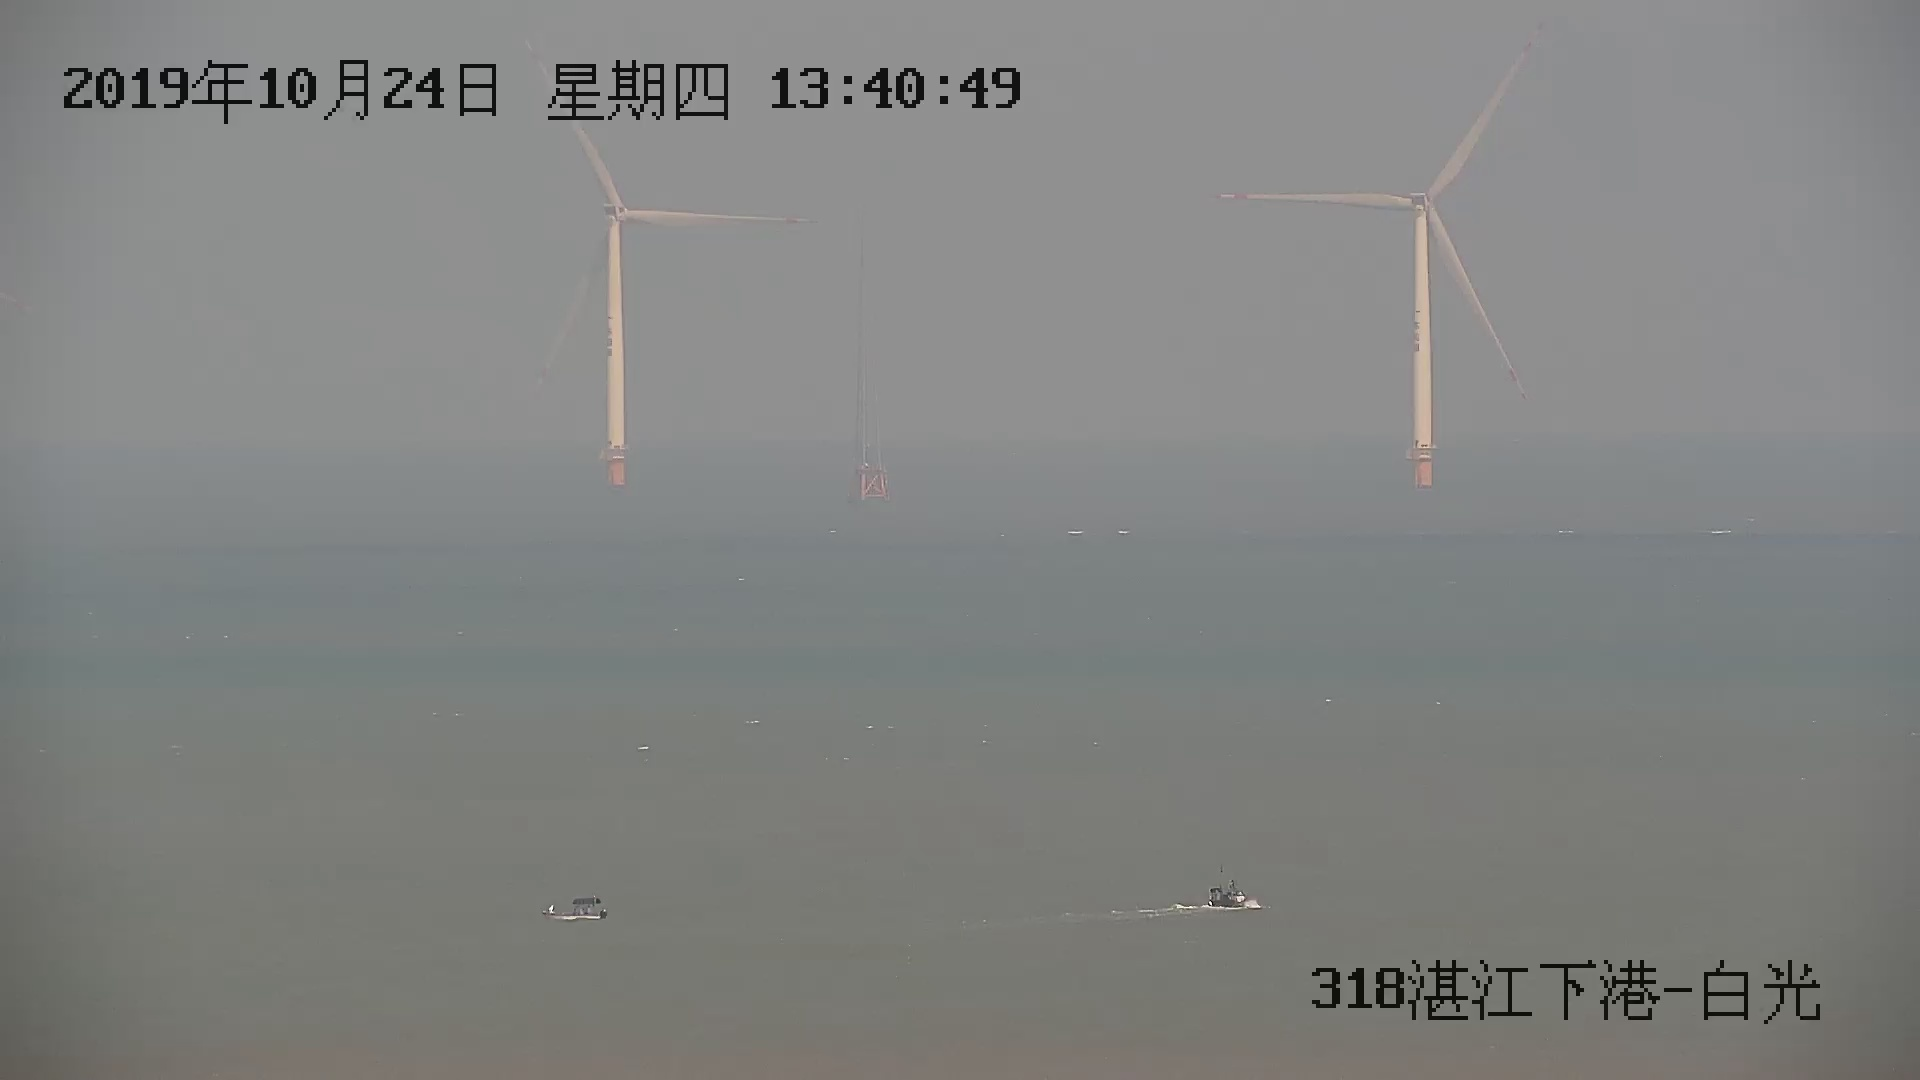ship: (1158, 885, 1262, 915), (545, 893, 605, 920)
